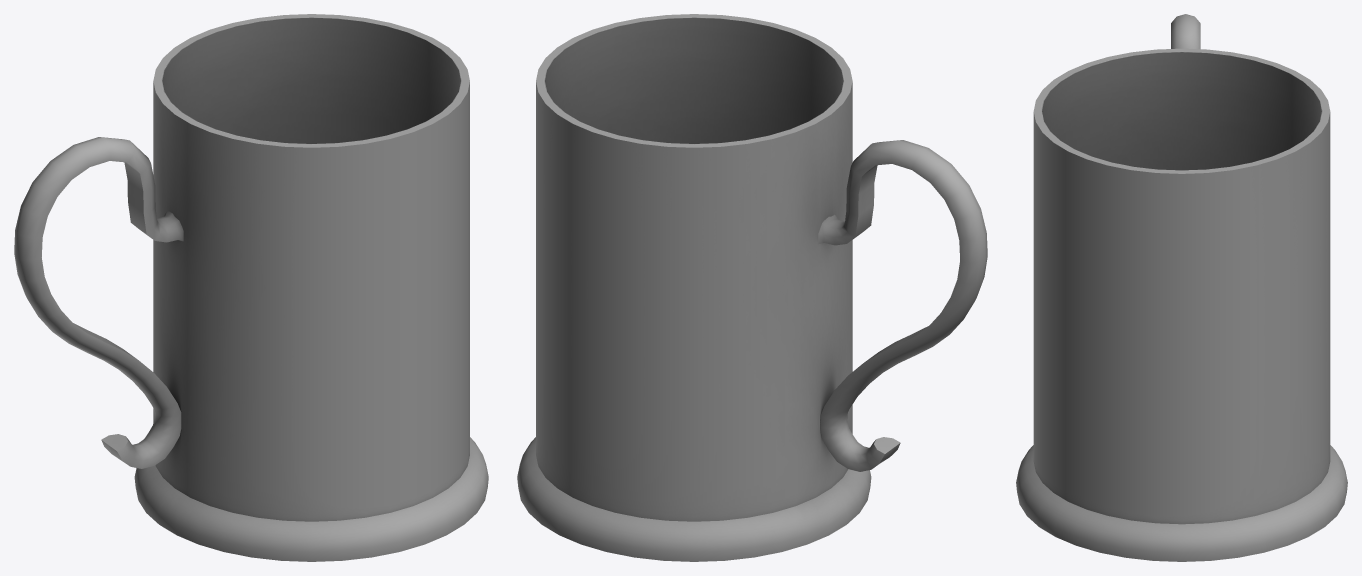
Rendered from obj_cupholder_c7f7a7.glb.
3 views of the same model, side by side, from view 1: azimuth 30°, elevation 25°; view 2: azimuth 150°, elevation 25°; view 3: azimuth 270°, elevation 25° (orthographic). The views are drawn at different scales.
Visible parts, largest first — view 1: obj_cupholder_c7f7a7; view 2: obj_cupholder_c7f7a7; view 3: obj_cupholder_c7f7a7.
Part boxes in pixels (x1=…): obj_cupholder_c7f7a7: x1=14, y1=14, x2=488, y2=561; obj_cupholder_c7f7a7: x1=517, y1=14, x2=987, y2=561; obj_cupholder_c7f7a7: x1=1016, y1=14, x2=1347, y2=561.
Bounding box in the file's own units: 0.1149 × 0.1 × 0.0789.
2 materials, 2 textured.
